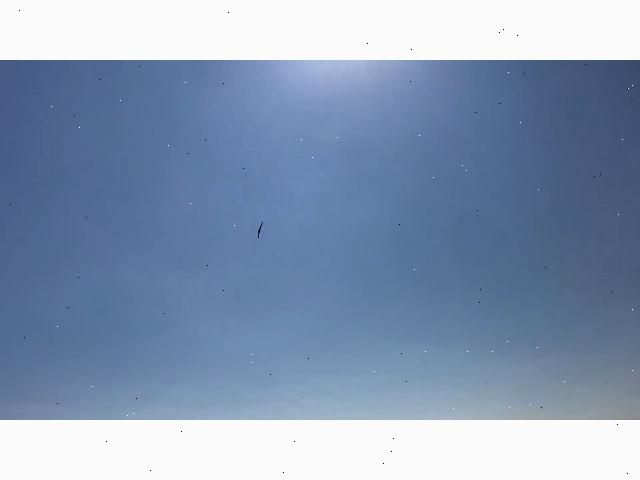Anti-Drone: (250, 217, 278, 244)
